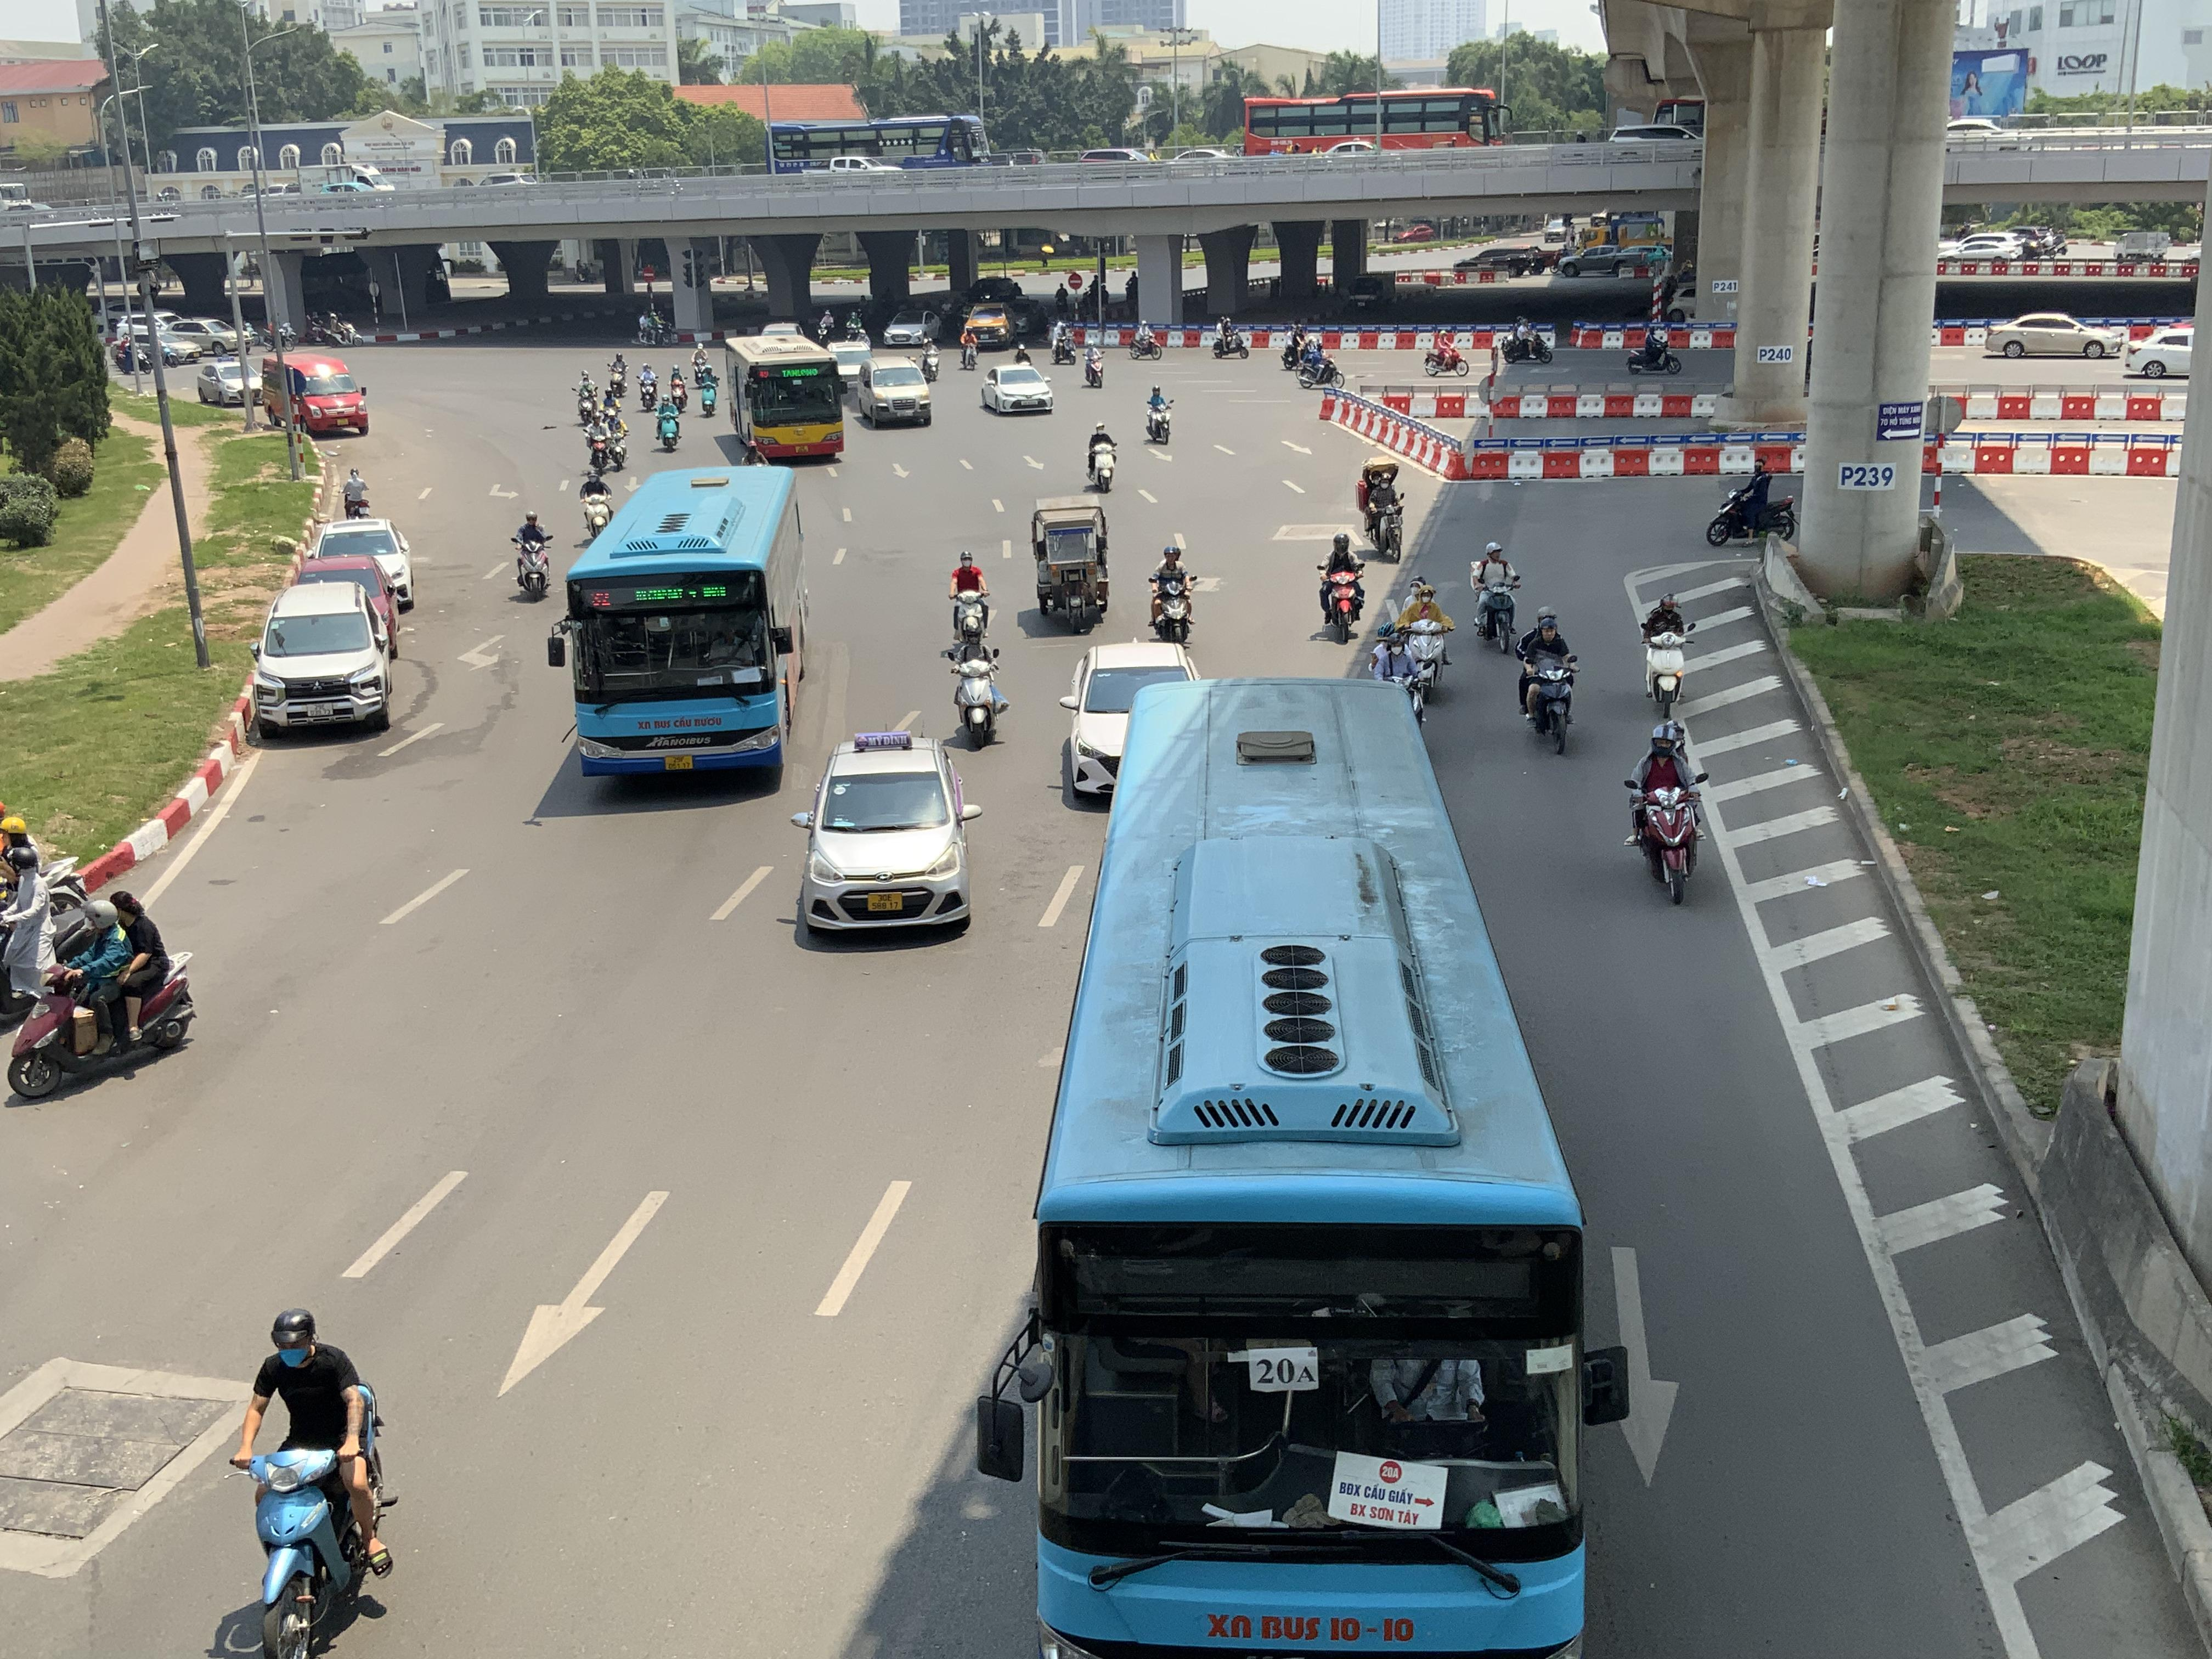BSV: (867, 892, 902, 910), (665, 755, 693, 770), (307, 702, 334, 716)
bus: (977, 676, 1635, 1659), (554, 462, 812, 782), (725, 326, 846, 462), (1242, 87, 1501, 150), (768, 112, 986, 171)
car: (789, 730, 982, 941), (244, 579, 397, 737), (1057, 641, 1200, 807), (291, 516, 415, 610), (258, 352, 369, 436), (1982, 310, 2127, 357), (857, 354, 934, 427), (2123, 324, 2203, 378), (981, 362, 1054, 415)
motorbike: (225, 1307, 395, 1659), (3, 885, 197, 1103), (1627, 720, 1707, 906), (1517, 606, 1578, 755), (946, 617, 1007, 749), (1399, 577, 1453, 714), (1707, 462, 1796, 545), (1639, 592, 1691, 714), (1315, 530, 1367, 643), (1470, 540, 1522, 653), (1146, 544, 1198, 647), (946, 549, 993, 645), (1360, 471, 1406, 559), (512, 509, 554, 601), (1623, 317, 1683, 373), (578, 455, 615, 533), (590, 399, 629, 472), (1085, 422, 1118, 493), (1296, 340, 1341, 390), (1423, 328, 1468, 376), (571, 366, 603, 432), (653, 389, 685, 451), (1143, 382, 1172, 446), (1211, 315, 1251, 359), (695, 357, 721, 418), (1127, 319, 1165, 359), (636, 359, 660, 413), (1049, 319, 1076, 366), (606, 349, 629, 404), (1082, 335, 1104, 387)
truck: (1026, 491, 1115, 631)
